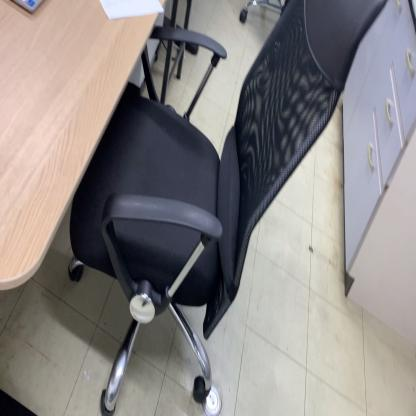chair: (69, 0, 387, 415)
